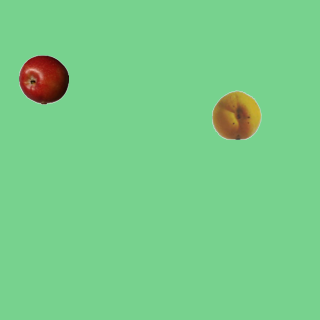Apple Braeburn: (18, 54, 68, 104)
Peach 2: (211, 89, 261, 139)
